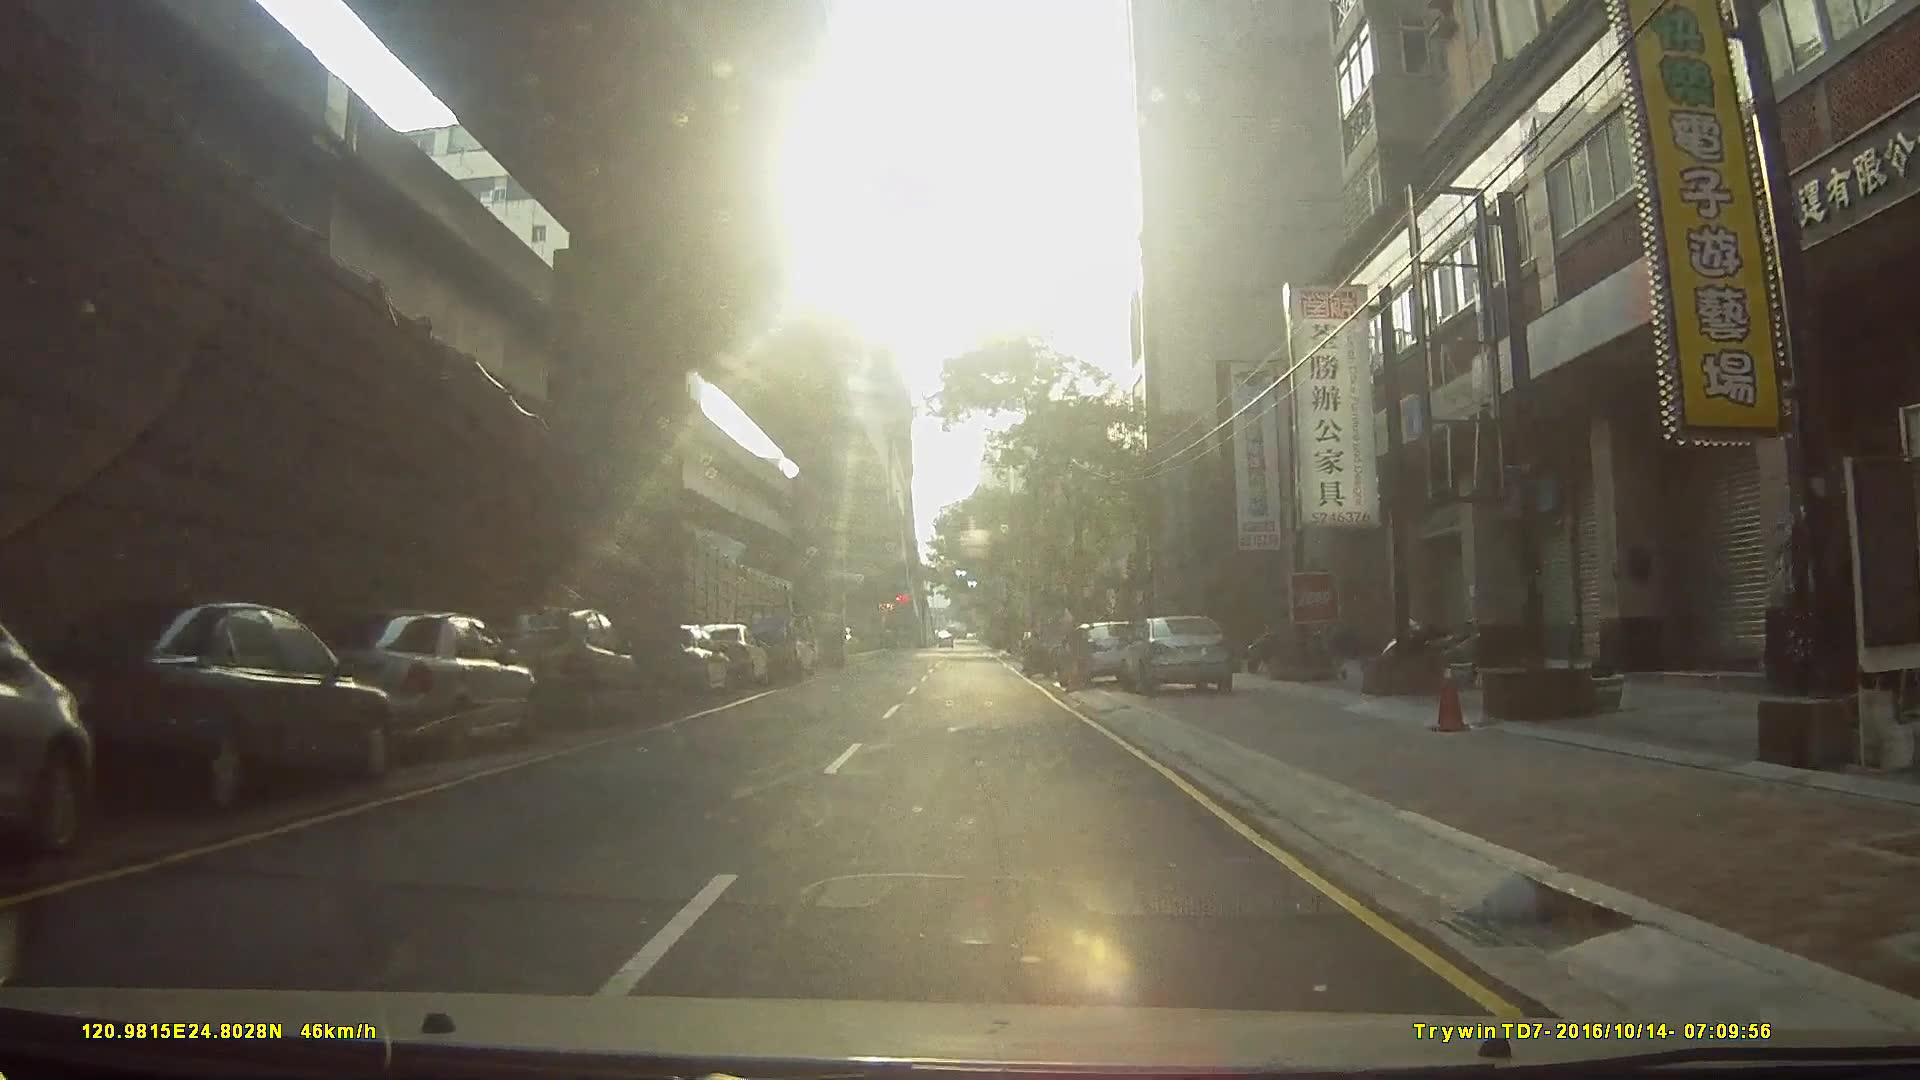rider: (1018, 623, 1054, 678)
vehicle: (0, 596, 377, 815), (302, 604, 532, 761), (1, 613, 109, 859), (466, 602, 639, 734), (1120, 610, 1237, 693), (642, 622, 728, 705), (1054, 617, 1141, 687), (726, 596, 797, 680), (683, 622, 766, 692)
